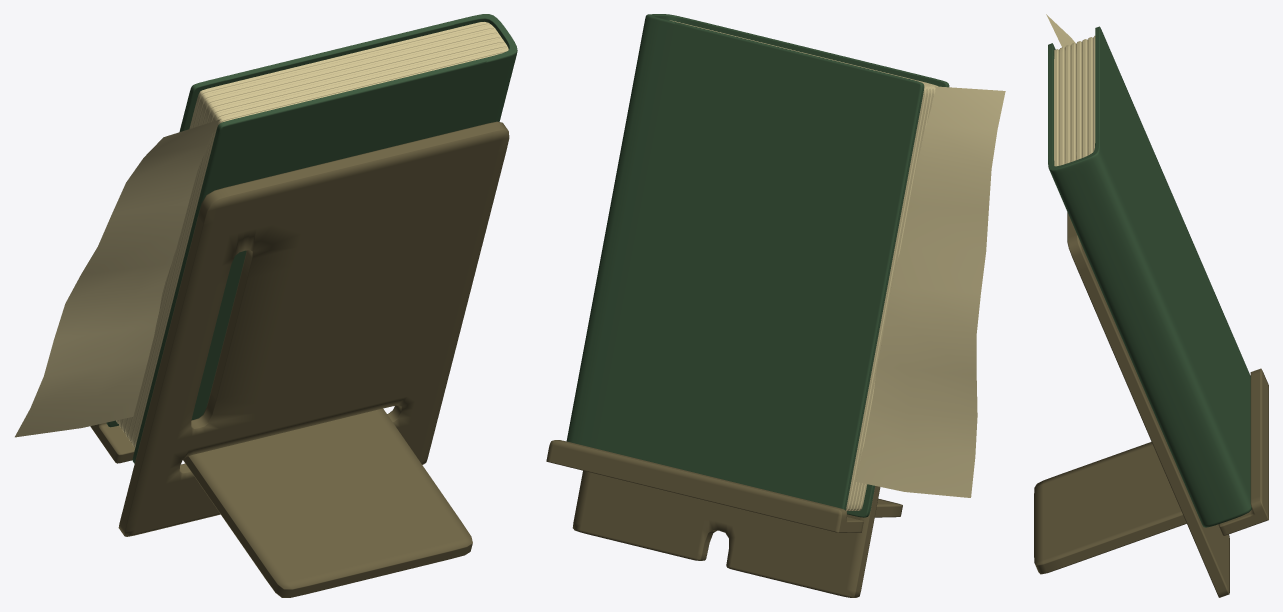
The model's file is QuranHolder.glb.
3 views of the same model, side by side, from view 1: azimuth 30°, elevation 25°; view 2: azimuth 150°, elevation 25°; view 3: azimuth 270°, elevation 25° (orthographic). The views are drawn at different scales.
Size of the model in its own units: 0.1954 by 0.2228 by 0.1065.
